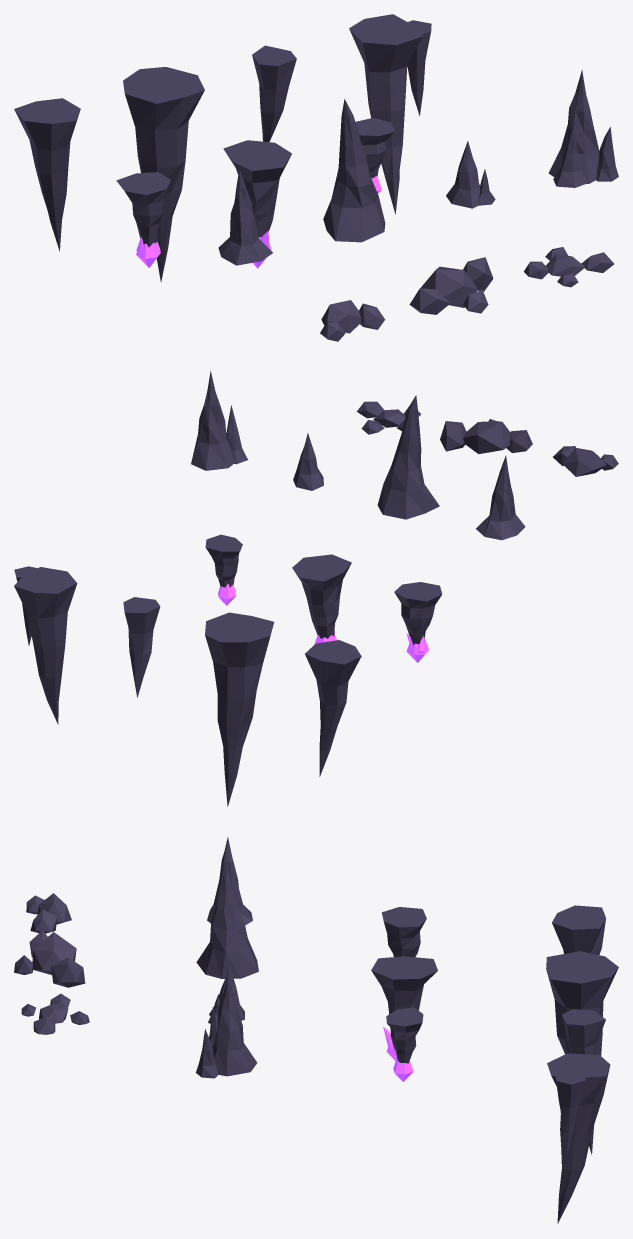
The model's file is FormacoesLobby1.glb.
3 renders of one model, top to bottom at view 1: azimuth 30°, elevation 25°; view 2: azimuth 150°, elevation 25°; view 3: azimuth 270°, elevation 25°, orthographic. The views are drawn at different scales.
Visible parts, largest first — view 1: PresaDoTeto_2, PresaDoTeto_4, AgulhaDePedra_2, PresaDoTeto_1, AgulhaDePedra_4, GotaDaFenda_2_Rocha, RochedoCaido_2, PresaDoTeto_3, GotaDaFenda_1_Rocha, AgulhaDePedra_1, RochedoCaido_3, RochedoCaido_1 (+3 smaller); view 2: PresaDoTeto_2, PresaDoTeto_4, AgulhaDePedra_2, PresaDoTeto_1, GotaDaFenda_2_Rocha, AgulhaDePedra_4, RochedoCaido_2, PresaDoTeto_3, GotaDaFenda_1_Rocha, AgulhaDePedra_1, GotaDaFenda_3_Rocha, RochedoCaido_1 (+2 smaller); view 3: PresaDoTeto_4, PresaDoTeto_2, AgulhaDePedra_2, AgulhaDePedra_4, GotaDaFenda_2_Rocha, RochedoCaido_2, PresaDoTeto_1, GotaDaFenda_1_Rocha, PresaDoTeto_3, GotaDaFenda_3_Rocha, RochedoCaido_3, RochedoCaido_1.
Boxes of the visible parts, x1,y1,x2,y2 form: PresaDoTeto_2: (123,67,204,282); PresaDoTeto_4: (349,14,431,214); AgulhaDePedra_2: (323,99,385,242); PresaDoTeto_1: (14,98,80,251); AgulhaDePedra_4: (548,69,618,187); GotaDaFenda_2_Rocha: (223,140,291,237); RochedoCaido_2: (409,257,493,314); PresaDoTeto_3: (252,45,296,141); GotaDaFenda_1_Rocha: (116,172,170,247); AgulhaDePedra_1: (218,168,272,265); RochedoCaido_3: (524,247,613,287); RochedoCaido_1: (320,300,385,341); PresaDoTeto_2: (205,612,274,806); PresaDoTeto_4: (14,566,77,724); AgulhaDePedra_2: (377,395,439,519); PresaDoTeto_1: (305,640,361,776); GotaDaFenda_2_Rocha: (292,554,351,638); AgulhaDePedra_4: (191,371,247,470); RochedoCaido_2: (440,419,532,454); PresaDoTeto_3: (123,597,160,697); GotaDaFenda_1_Rocha: (394,582,442,644); AgulhaDePedra_1: (476,455,525,540); GotaDaFenda_3_Rocha: (205,534,242,587); RochedoCaido_1: (553,446,618,476); PresaDoTeto_4: (547,1053,610,1223); PresaDoTeto_2: (546,951,618,1154); AgulhaDePedra_2: (196,843,258,978); AgulhaDePedra_4: (196,975,257,1078); GotaDaFenda_2_Rocha: (371,956,437,1031); RochedoCaido_2: (14,930,85,987); PresaDoTeto_1: (552,905,605,954); GotaDaFenda_1_Rocha: (381,907,426,957); PresaDoTeto_3: (561,1009,605,1054); GotaDaFenda_3_Rocha: (386,1007,423,1063); RochedoCaido_3: (21,993,89,1034); RochedoCaido_1: (26,893,71,933).
Size of the model in its own units: 58.01 by 46 by 82.71.
